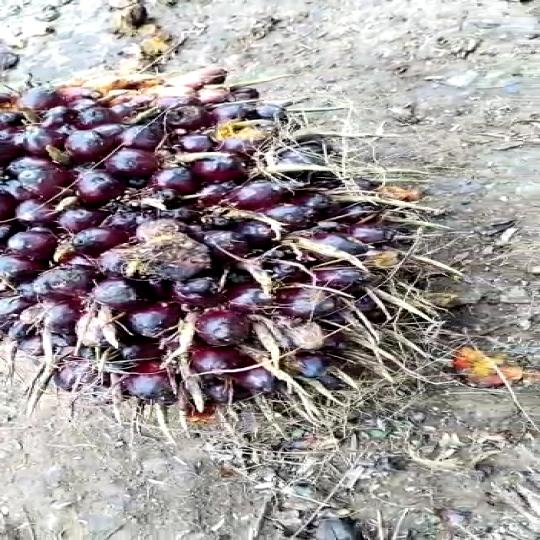mentah: (7, 70, 449, 413)
